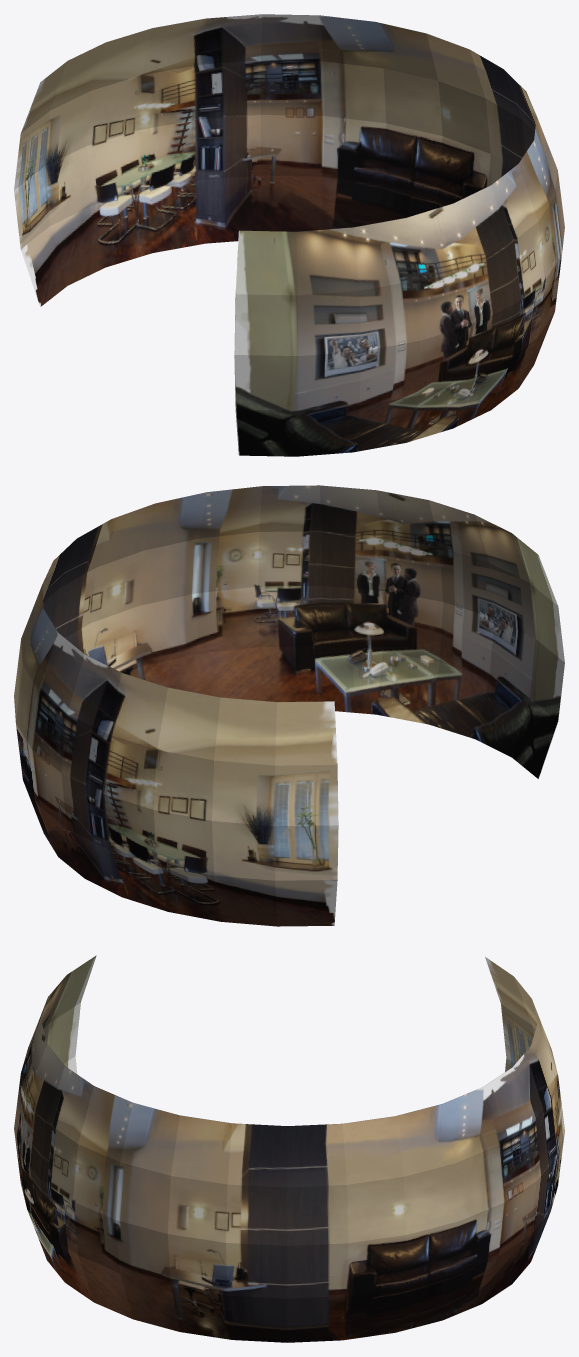
File: Panorama4_v02.dae
The picture shows the model from 3 angles, top to bottom: view 1: azimuth 30°, elevation 25°; view 2: azimuth 150°, elevation 25°; view 3: azimuth 270°, elevation 25°; orthographic projection. The views are drawn at different scales.
Parts seen in each view (by area): view 1: ID56; view 2: ID56; view 3: ID56.
Boxes of the visible parts, bbox=[...] form: ID56: bbox=[14, 14, 564, 456]; ID56: bbox=[14, 485, 564, 926]; ID56: bbox=[14, 955, 564, 1342].
Size of the model in its own units: 7668 by 9408 by 4082.
Materials: 1 (1 with a texture image).
